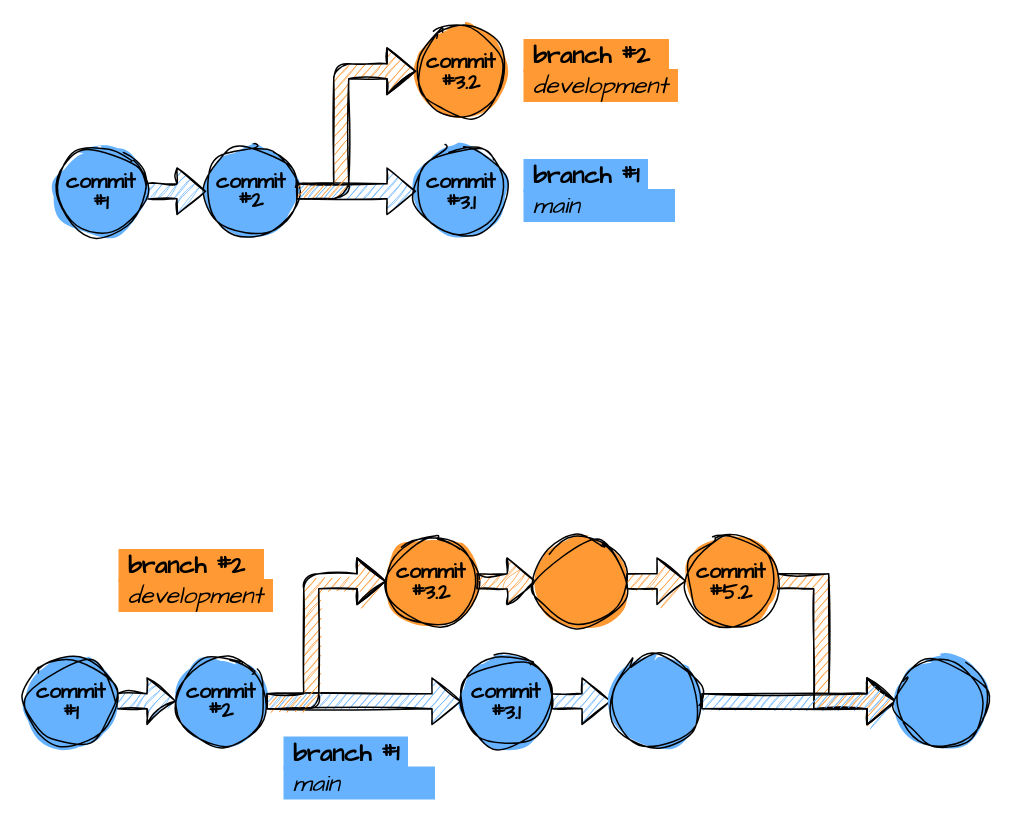
Image size: 1013x824. Some labels were removed from this diagram. Each missing label, with the centre of its shape:
commit #4.1: point (655, 700)
commit #4.2: point (580, 580)
commit #6: point (940, 700)
